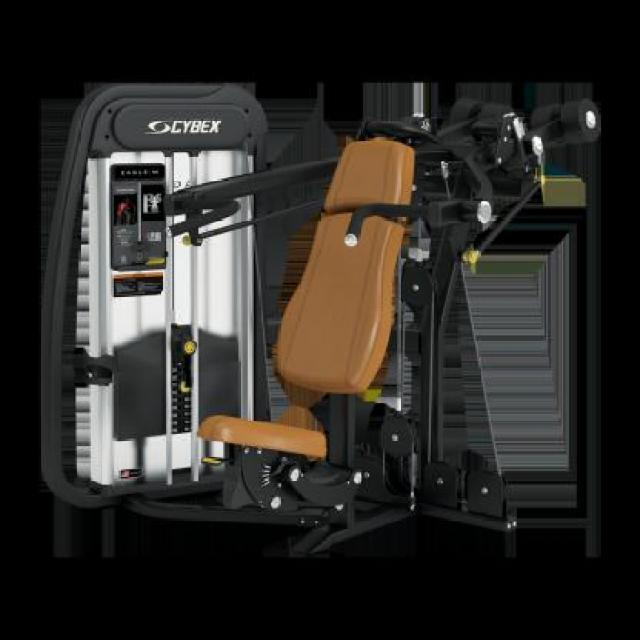shoulder press machine: (31, 78, 604, 557)
